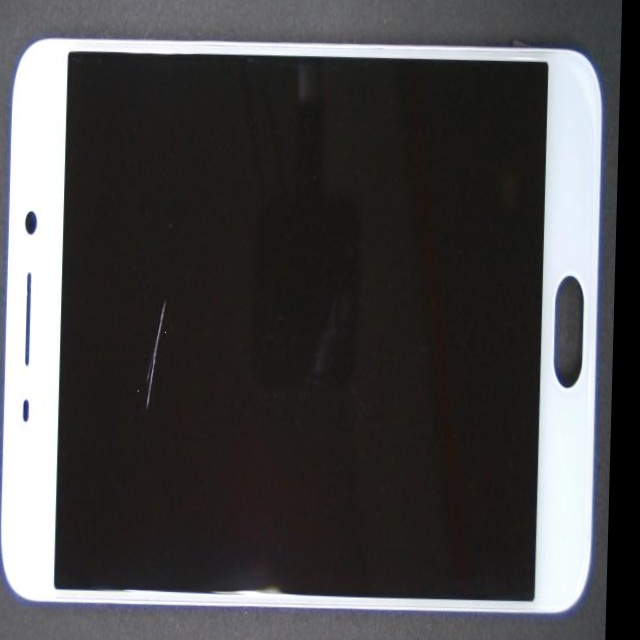scratch: (46, 171, 222, 625)
